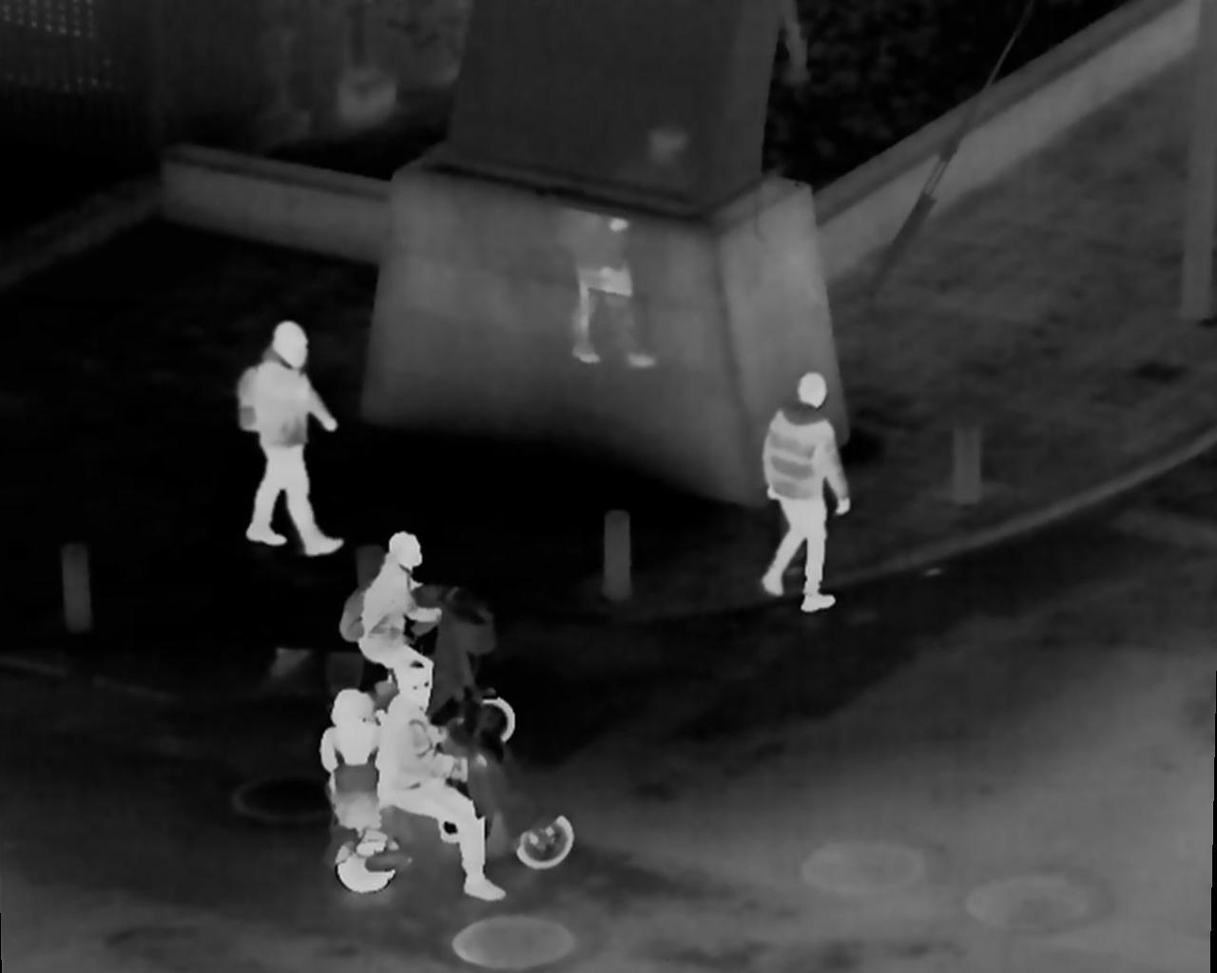person: (362, 677, 497, 889), (762, 373, 858, 613), (248, 324, 346, 549), (349, 529, 443, 702), (311, 677, 382, 827)
